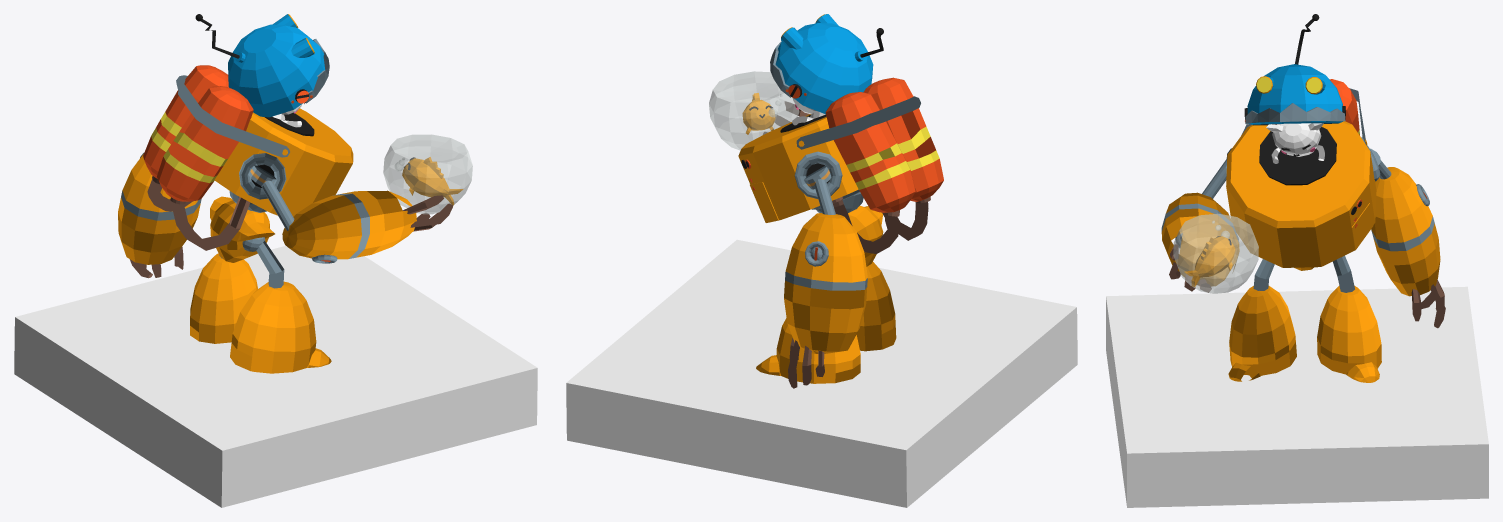
File: Robocat.glb
The picture shows the model from 3 angles, left to right: view 1: azimuth 30°, elevation 25°; view 2: azimuth 150°, elevation 25°; view 3: azimuth 270°, elevation 25°; orthographic projection. The views are drawn at different scales.
Visible parts, largest first — view 1: Node; view 2: Node; view 3: Node.
Boxes of the visible parts, <box> form: Node: <box>14,14,537,507</box>; Node: <box>566,14,1077,507</box>; Node: <box>1106,14,1488,507</box>.
Size of the model in its own units: 1.25 by 1.37 by 1.25.
